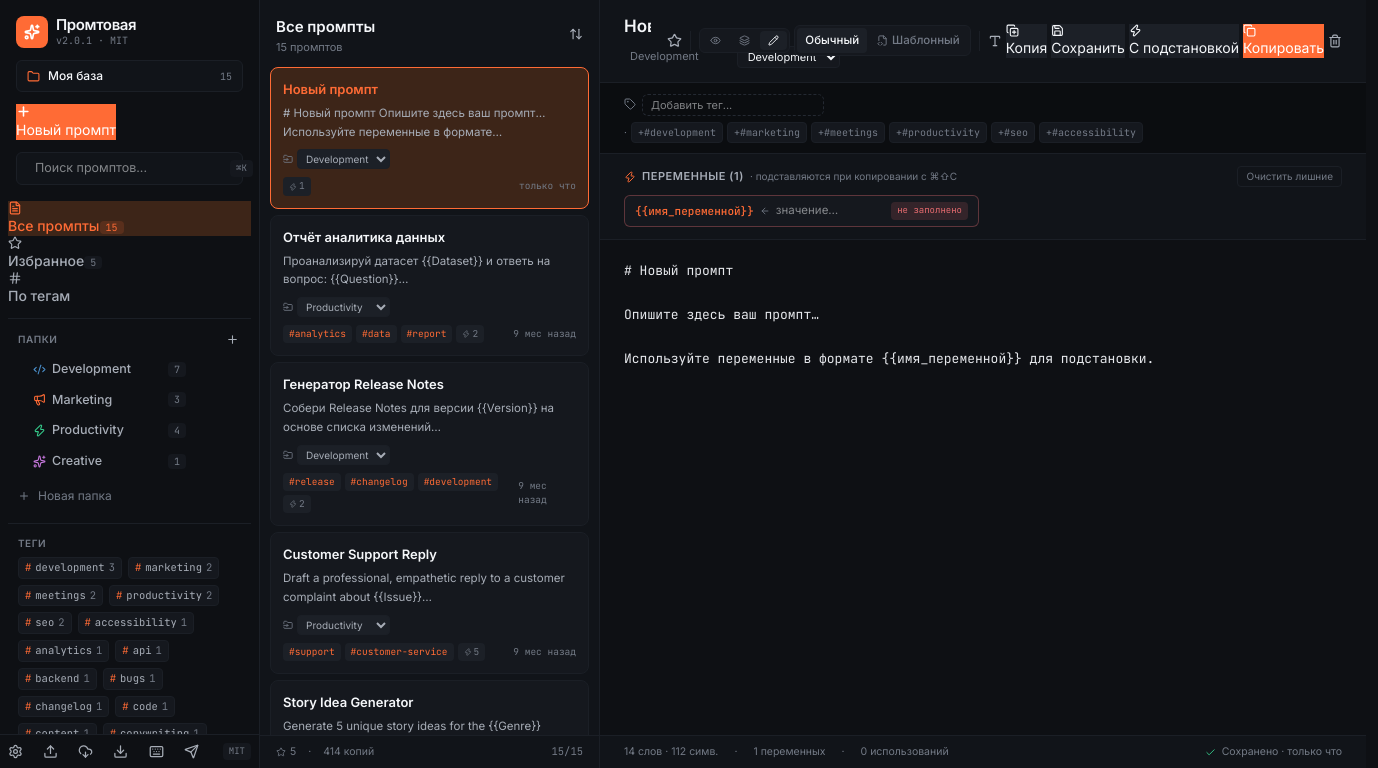
Test case: папки в UI (§3) › контекстное меню папки открывается по правому клику
Right-click the list item "Development": {"x": 110, "y": 369} [33,361,186,377]
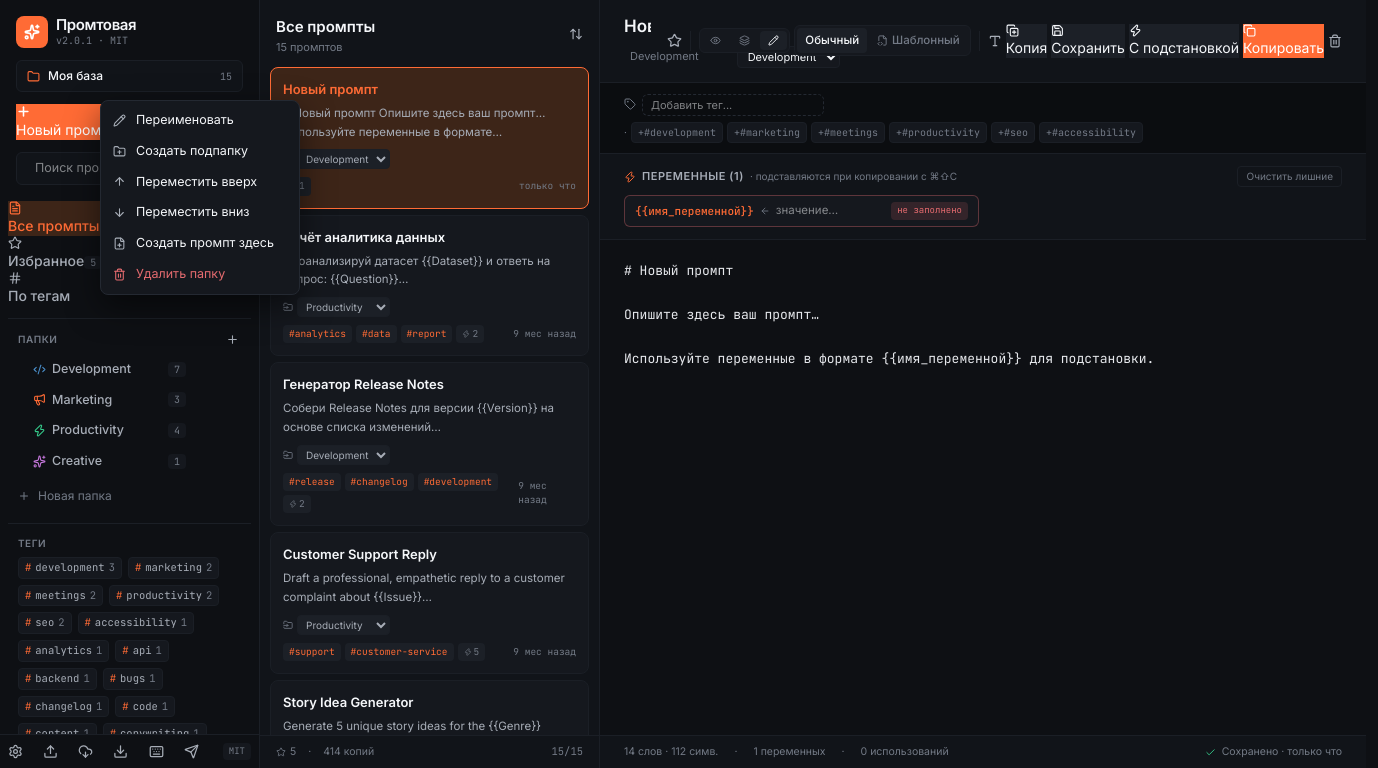
Result: the menu item "Создать подпапку" is shown at [101,136,299,167]
